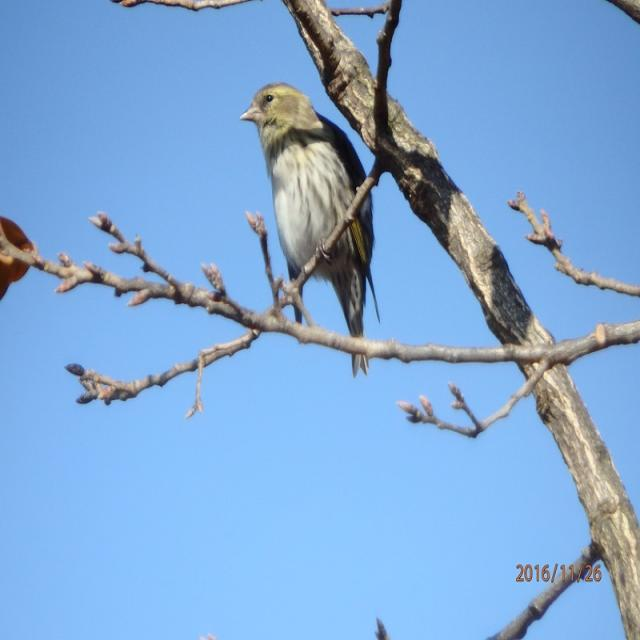bird: (245, 76, 372, 369)
